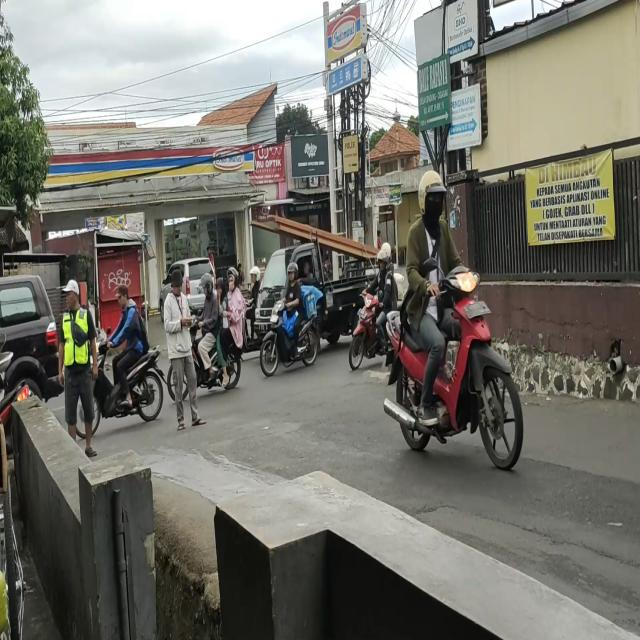helmet: (419, 174, 446, 217), (225, 266, 238, 292), (200, 272, 214, 296), (285, 260, 300, 282), (378, 251, 390, 270)
no-helmet: (117, 285, 130, 310), (216, 278, 225, 295)
